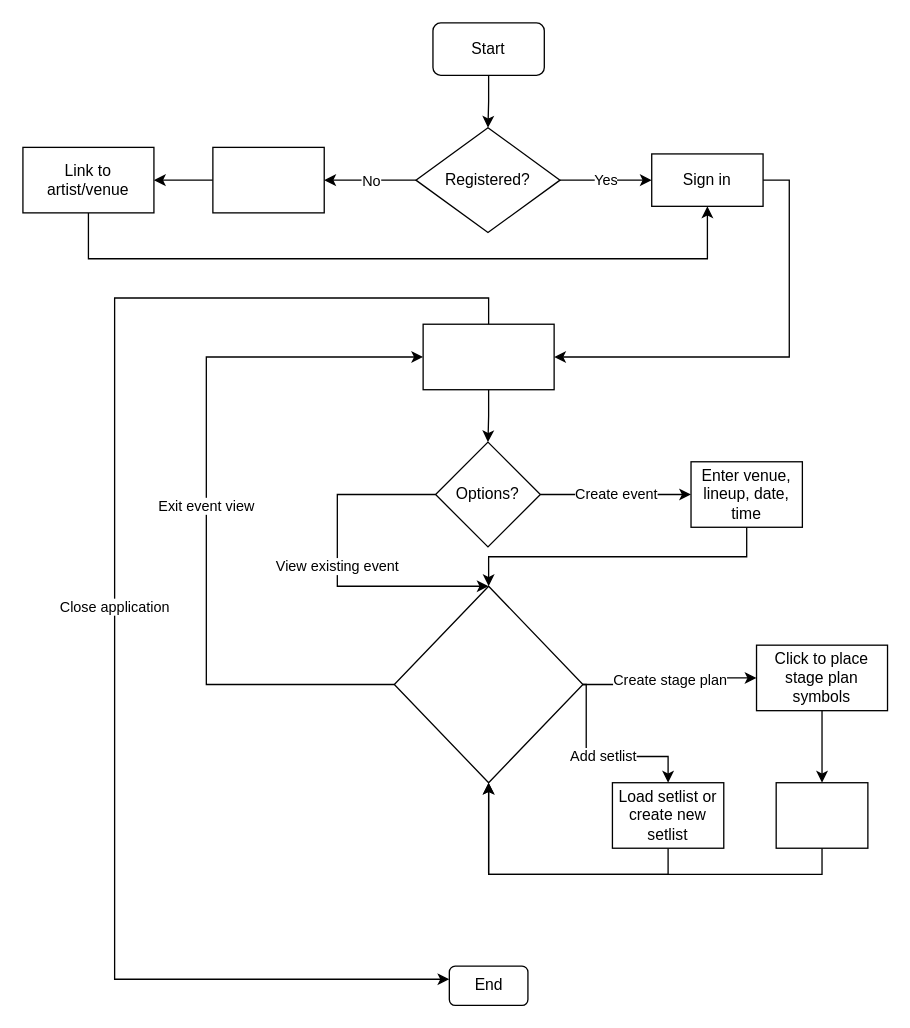
Image size: 910x1028. Some labels were removed from this diagram. The centre of each missing label's shape, as x and y in pixels:
"Create user account" belongs at pixel 268 179.
"Display calendar with dates highlighted" belongs at pixel 488 356.
"Export to image file" belongs at pixel 821 814.
"View details, option to edit existing details or to add optional details" belongs at pixel 488 684.
